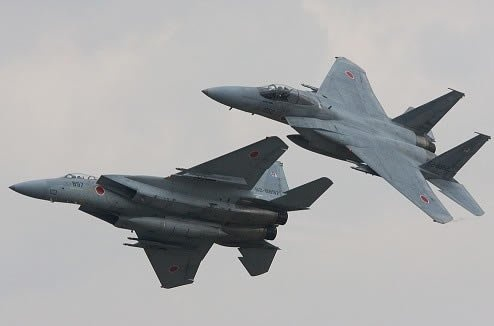airplane: (3, 137, 334, 292), (195, 53, 489, 227)
